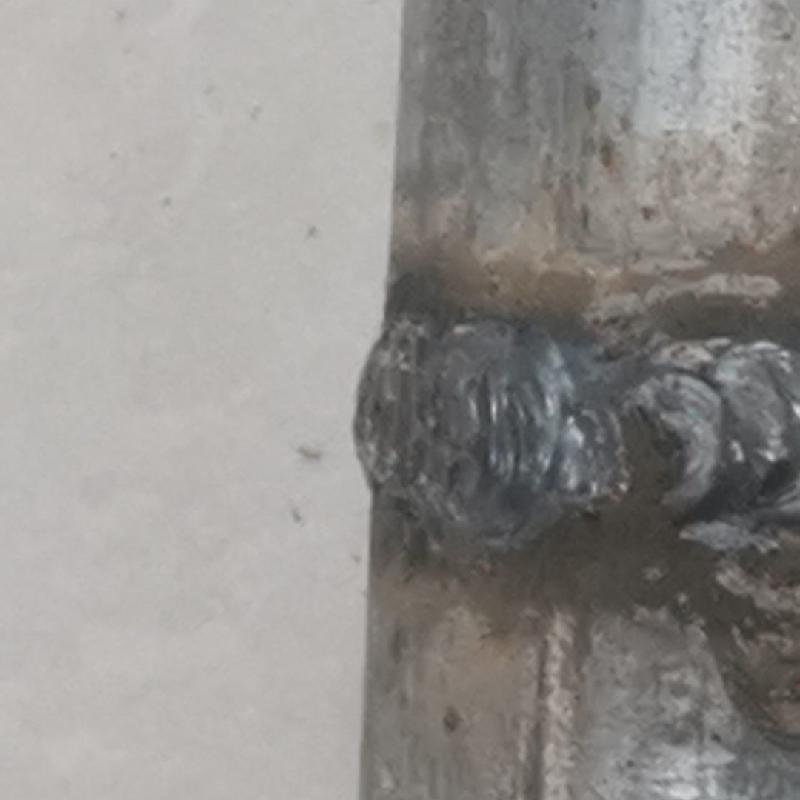good: (340, 295, 799, 538)
